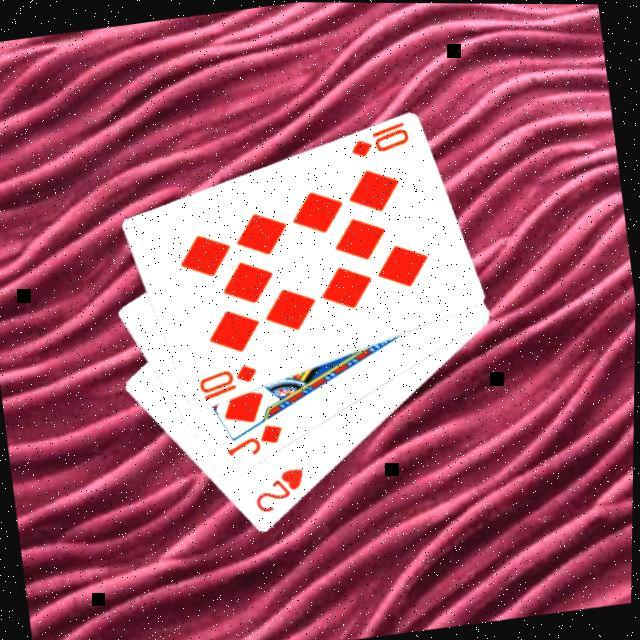10D: (344, 116, 414, 162), (194, 360, 262, 404)
2H: (248, 462, 313, 518)
JD: (221, 417, 290, 462)
